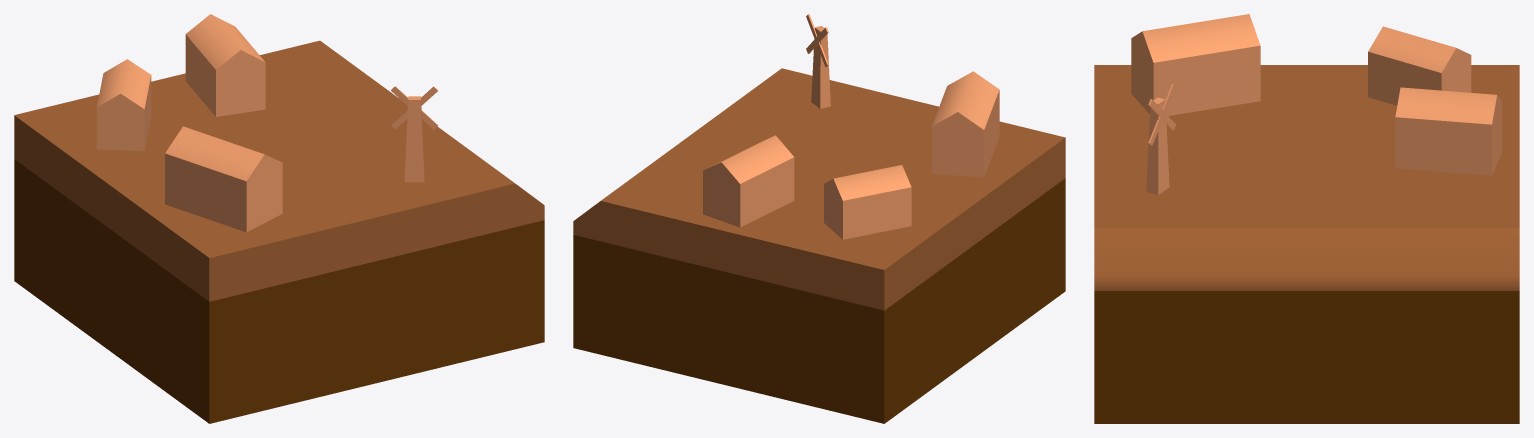
The model's file is Settlement01.fbx.
3 views of the same model, side by side, from view 1: azimuth 30°, elevation 25°; view 2: azimuth 150°, elevation 25°; view 3: azimuth 270°, elevation 25° (orthographic). The views are drawn at different scales.
Visible parts, largest first — view 1: Settlement01; view 2: Settlement01; view 3: Settlement01.
Part boxes in pixels (<box>): Settlement01: <box>14,14,544,423</box>; Settlement01: <box>573,14,1065,423</box>; Settlement01: <box>1094,14,1519,423</box>.
Bounding box in the file's own units: 96.18 × 70.41 × 97.03.
Materials: 1 (1 with a texture image).
